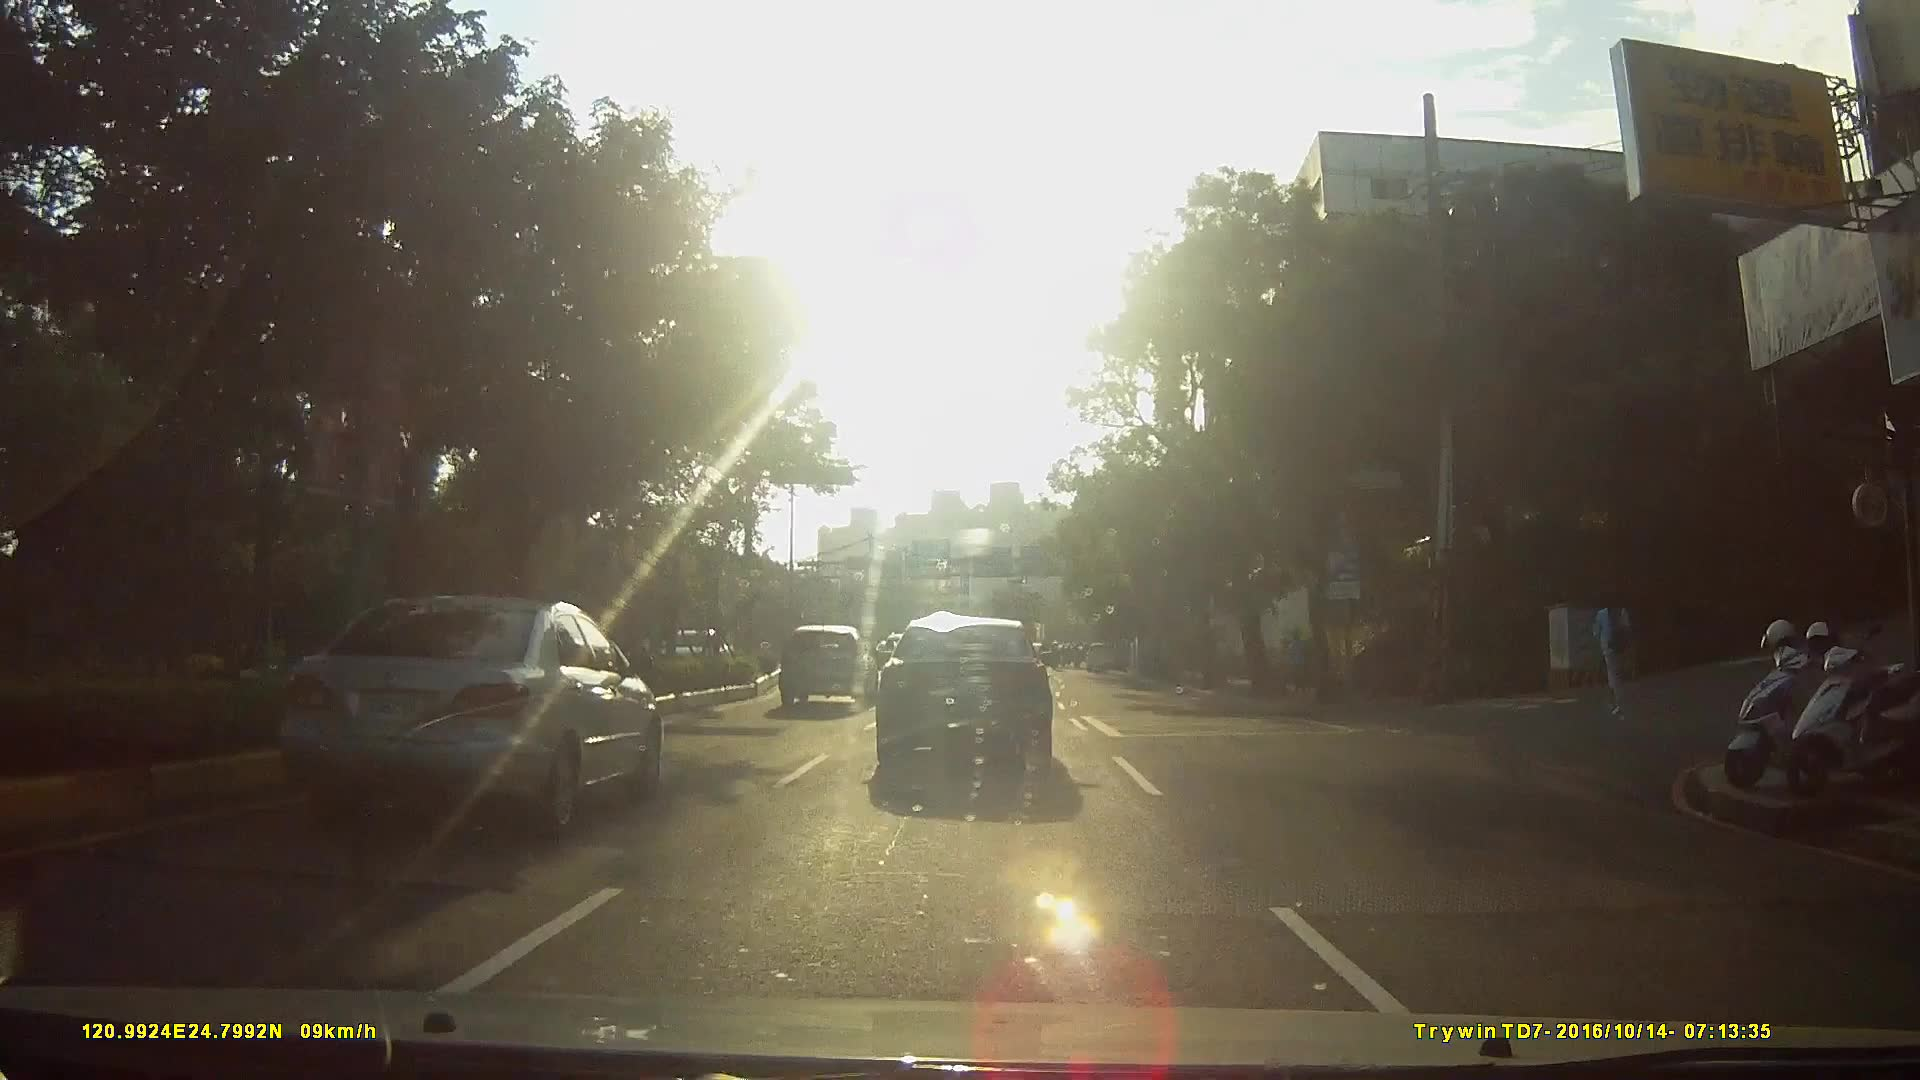pedestrian: (1596, 586, 1647, 711)
vehicle: (263, 592, 665, 836), (877, 614, 1082, 788), (779, 625, 881, 712), (1080, 641, 1113, 674)
